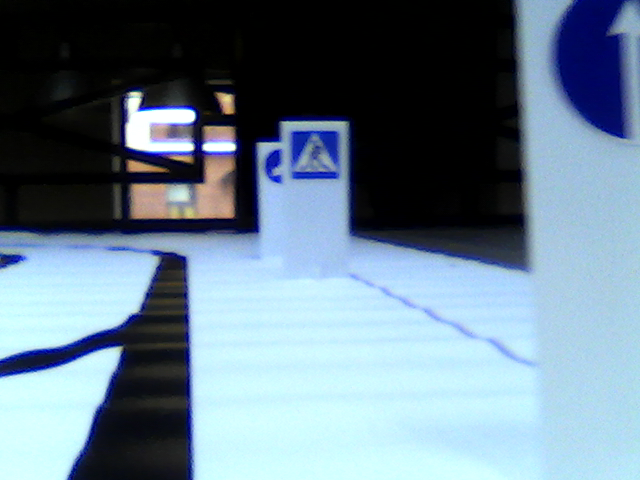pesh: (289, 127, 344, 183)
